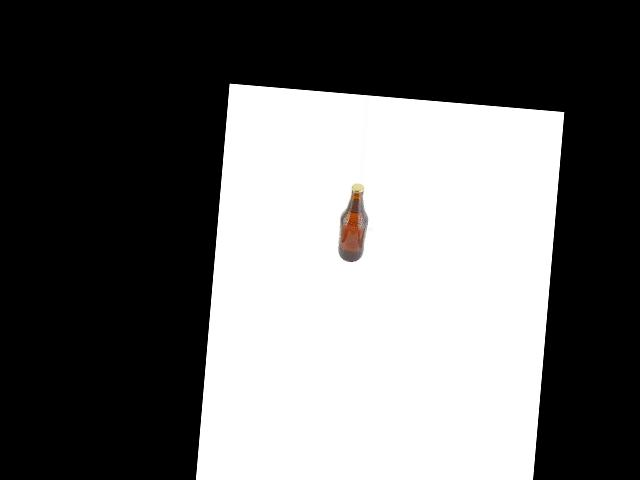beer: (337, 182, 369, 262)
